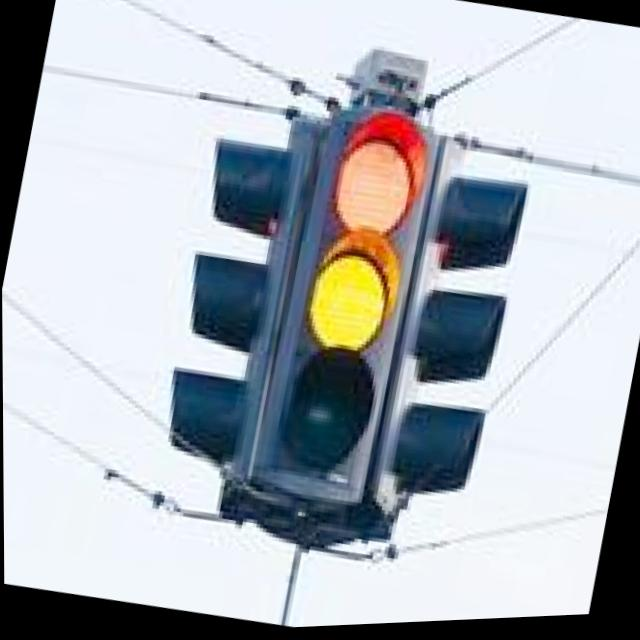red_light: (309, 90, 453, 251)
yellow_light: (265, 222, 441, 365)
